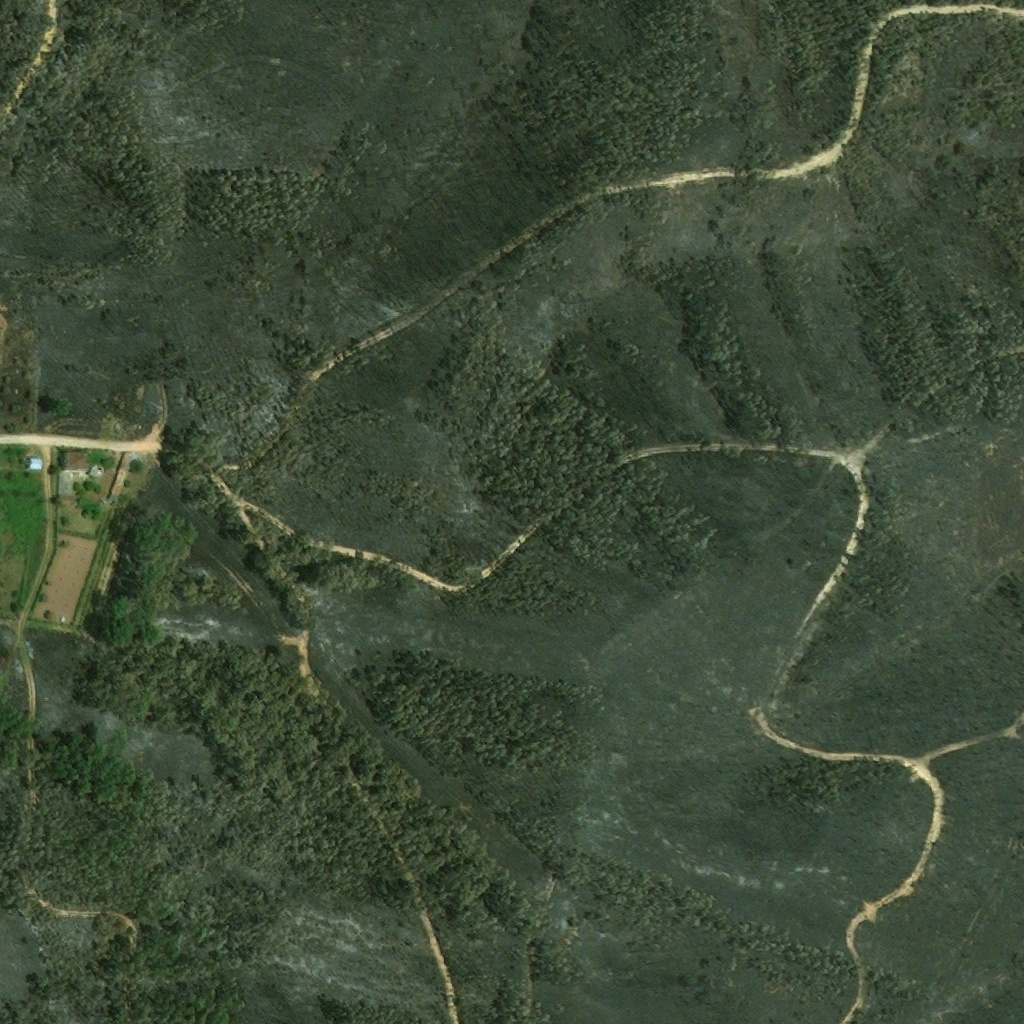0 no-damage: (107, 452, 133, 500), (58, 450, 87, 469), (57, 471, 75, 496), (26, 458, 43, 471), (89, 464, 104, 477)
4 un-classified: (58, 618, 65, 623)
